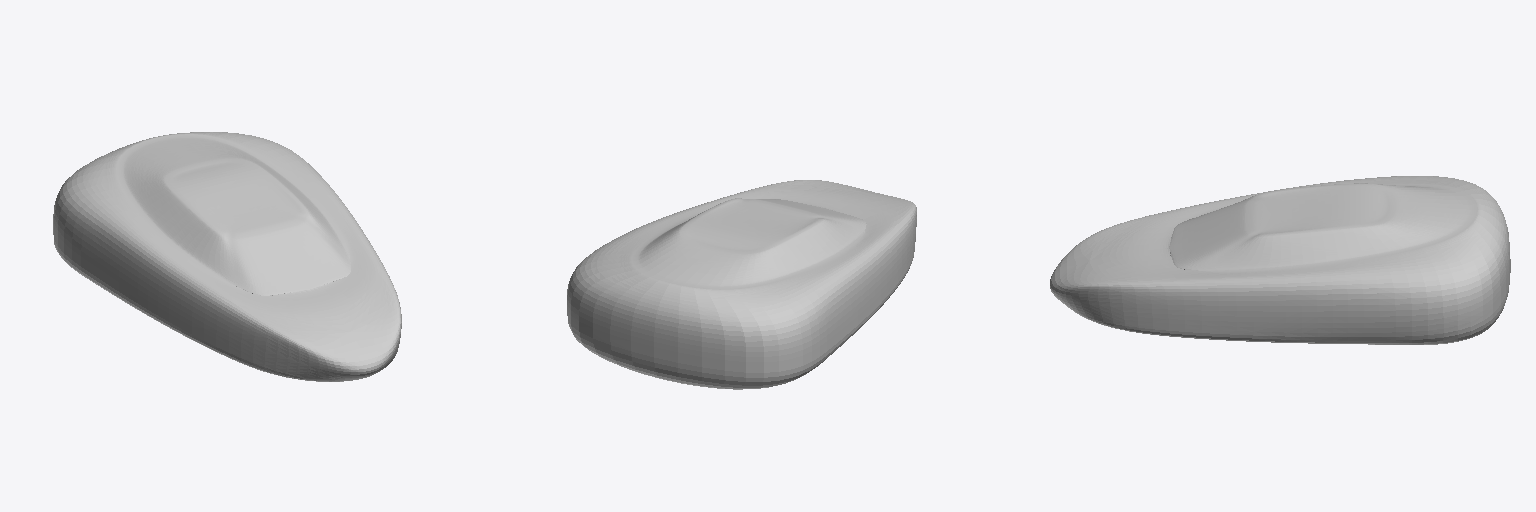
The model's file is Dummy.obj.
The picture shows the model from 3 angles: view 1: azimuth 30°, elevation 25°; view 2: azimuth 150°, elevation 25°; view 3: azimuth 270°, elevation 25°; orthographic projection.
Parts seen in each view (by area): view 1: Cube; view 2: Cube; view 3: Cube.
Part boxes in pixels (x1,y1,x2,y2): Cube: (53,132,401,381); Cube: (567,180,916,389); Cube: (1050,176,1510,344).
Size of the model in its own units: 2.8 by 1.14 by 4.73.